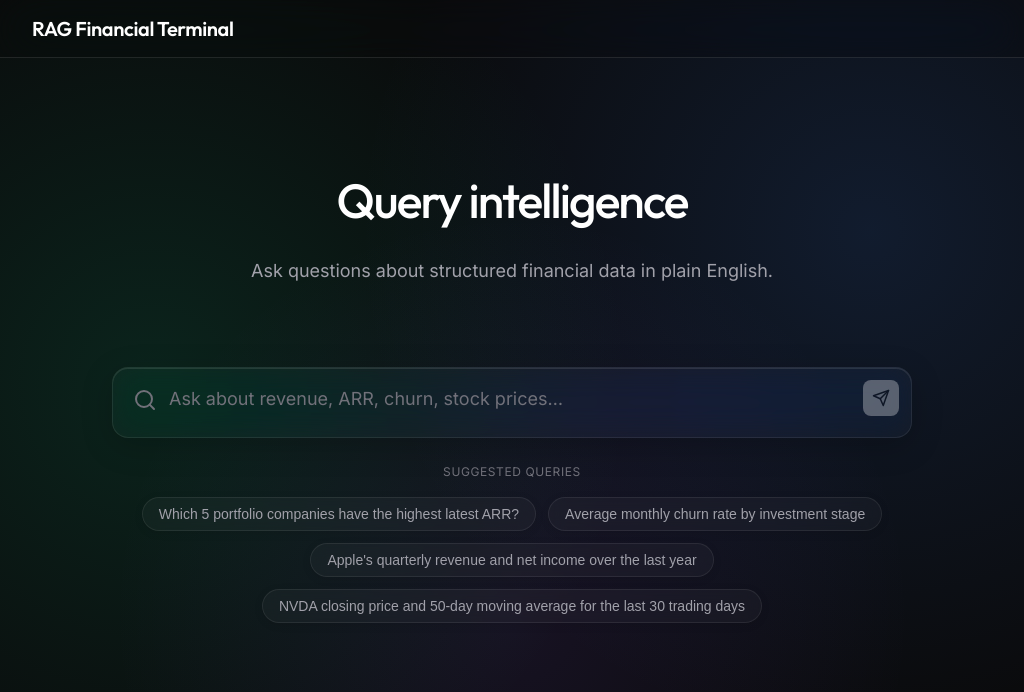
Test: App › runs a suggested query on click
Click the button "Average monthly churn rate by investment stage": [715, 514] box top-left (548, 497), bottom-right (882, 531)
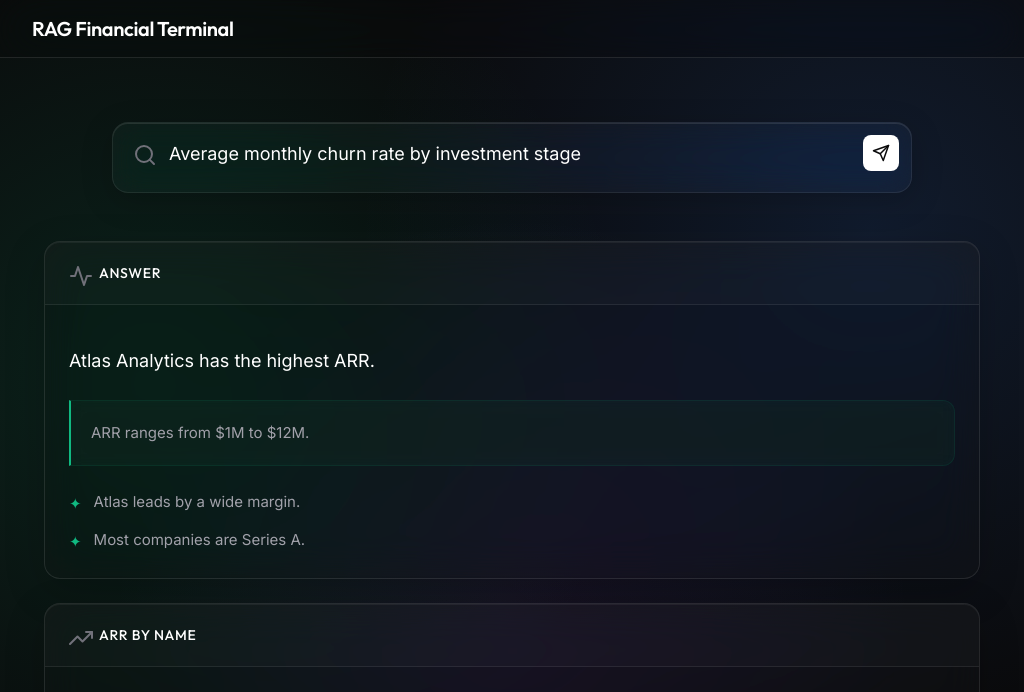
expect the text "Atlas Analytics has the highest ARR." is shown: met, box top-left (69, 350), bottom-right (375, 371)
